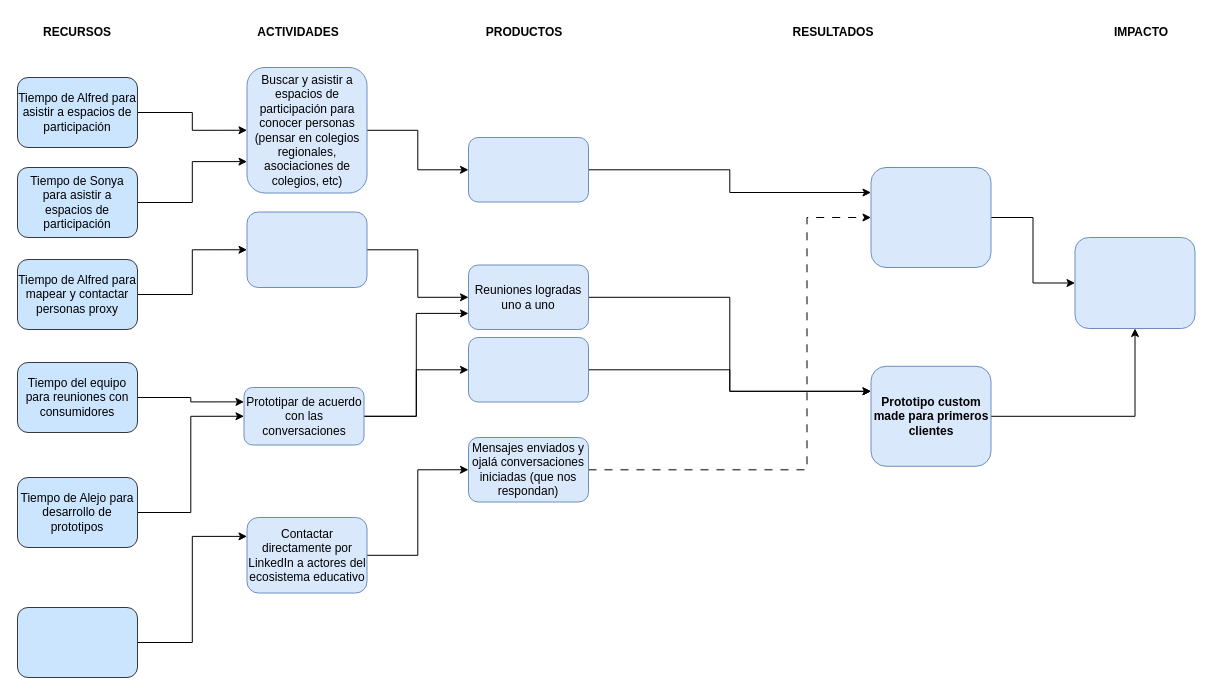
The diagram is 1213 pixels wide and 695 high, and some of its shapes have lost their labels. Here are the shapes that lost their labels. From the top down, the centre of each, then its label:
At pixel 528 169: "Eventos a los que asistimos y conocemos personas".
At pixel 930 217: "Acceder a comunidad de colegios (rectores, coordinadores, y docentes)".
At pixel 306 249: "Hablar con contactos proxy: gente que trabaja o estudia en colegios objetivo".
At pixel 1134 282: "Crear un gran producto inicial".
At pixel 528 369: "Pruebas de usabilidad con actores contactados".
At pixel 77 642: "Tiempo de Alejo para contactar por LinkedIn".
